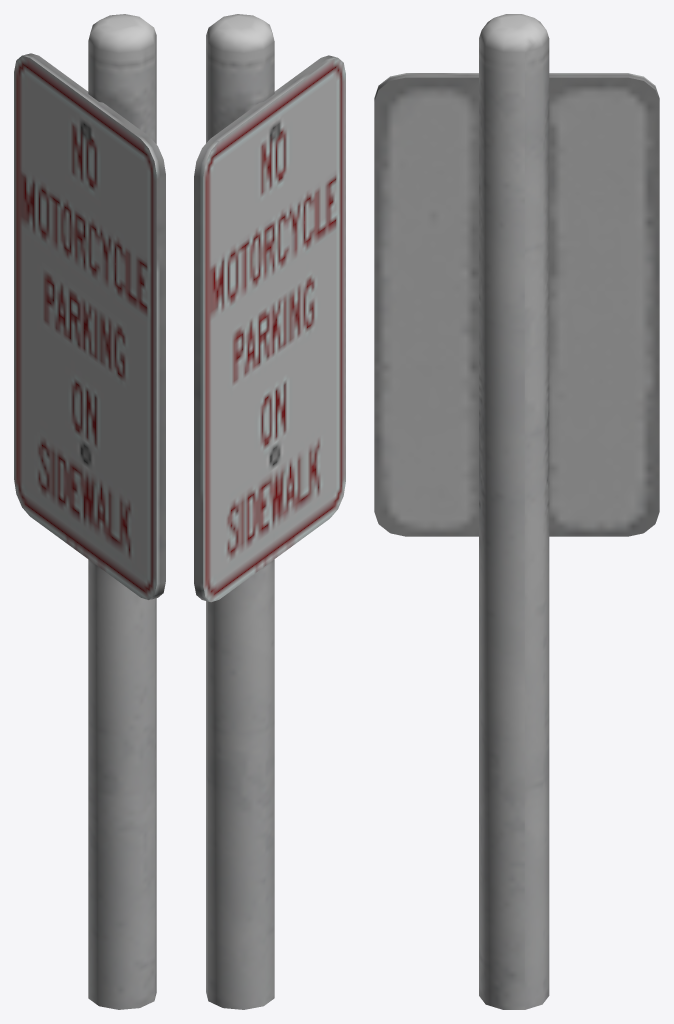
The model's file is MB_No_Parking.fbx.
The picture shows the model from 3 angles, left to right: view 1: azimuth 30°, elevation 25°; view 2: azimuth 150°, elevation 25°; view 3: azimuth 270°, elevation 25°; orthographic projection.
Parts seen in each view (by area): view 1: MB_No_Parking; view 2: MB_No_Parking; view 3: MB_No_Parking.
Boxes of the visible parts, bbox=[...] form: MB_No_Parking: bbox=[14, 14, 165, 1009]; MB_No_Parking: bbox=[194, 14, 345, 1009]; MB_No_Parking: bbox=[374, 14, 659, 1009].
Size of the model in its own units: 4.15 by 59.86 by 15.9.
